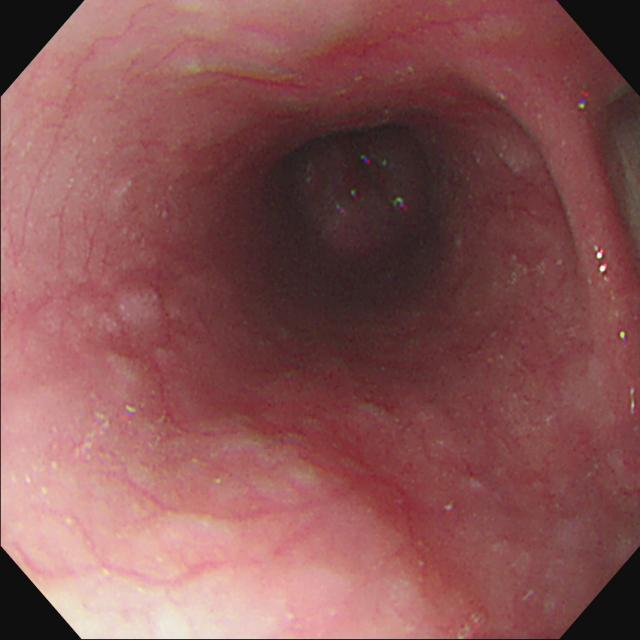I: (299, 118, 437, 268)
U: (593, 246, 612, 283), (573, 94, 595, 121)
